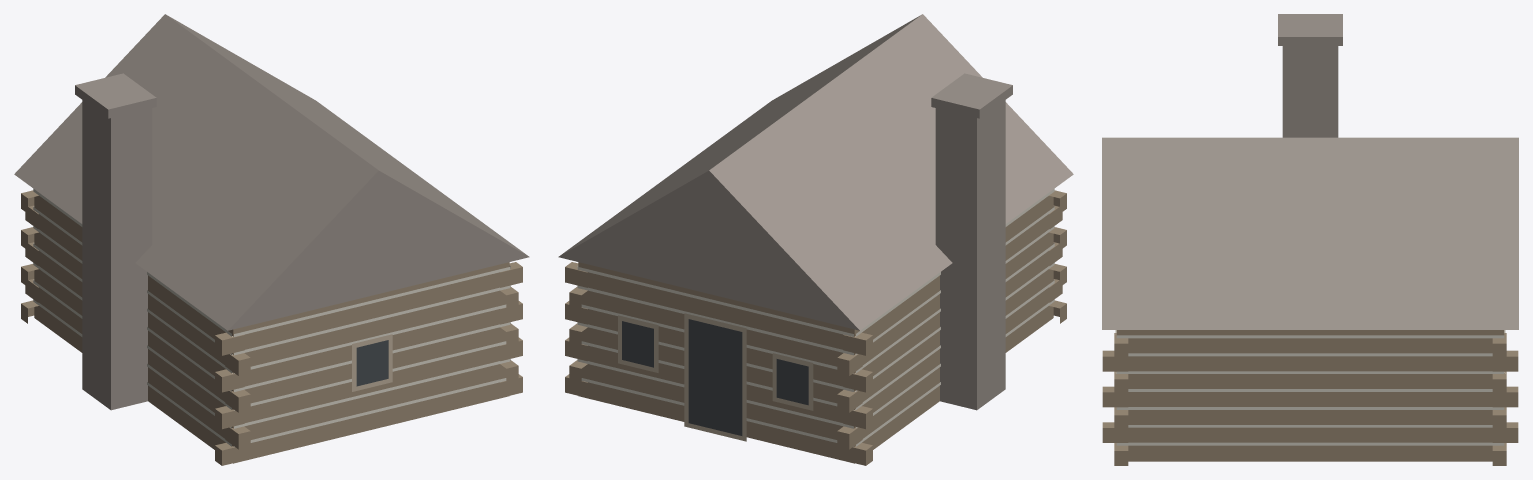
The model's file is recon_1835_south_d1_021__inferred_1835.glb.
3 views of the same model, side by side, from view 1: azimuth 30°, elevation 25°; view 2: azimuth 150°, elevation 25°; view 3: azimuth 270°, elevation 25° (orthographic). The views are drawn at different scales.
Parts seen in each view (by area): view 1: recon_1835_south_d1_021__inferred_1835; view 2: recon_1835_south_d1_021__inferred_1835; view 3: recon_1835_south_d1_021__inferred_1835.
Part boxes in pixels (left/top/right/bottom): recon_1835_south_d1_021__inferred_1835: left=14, top=14, right=529, bottom=465; recon_1835_south_d1_021__inferred_1835: left=558, top=14, right=1073, bottom=465; recon_1835_south_d1_021__inferred_1835: left=1102, top=14, right=1518, bottom=465.
Size of the model in its own units: 6.43 by 5.69 by 7.18.
